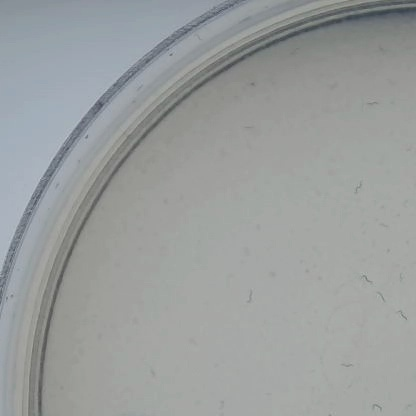worm: (348, 264, 380, 292), (326, 351, 360, 372), (361, 394, 387, 416), (318, 395, 345, 416), (238, 288, 262, 311), (346, 176, 372, 196), (390, 302, 415, 322), (212, 396, 236, 416), (376, 216, 398, 237), (373, 287, 393, 307), (362, 95, 387, 111)
